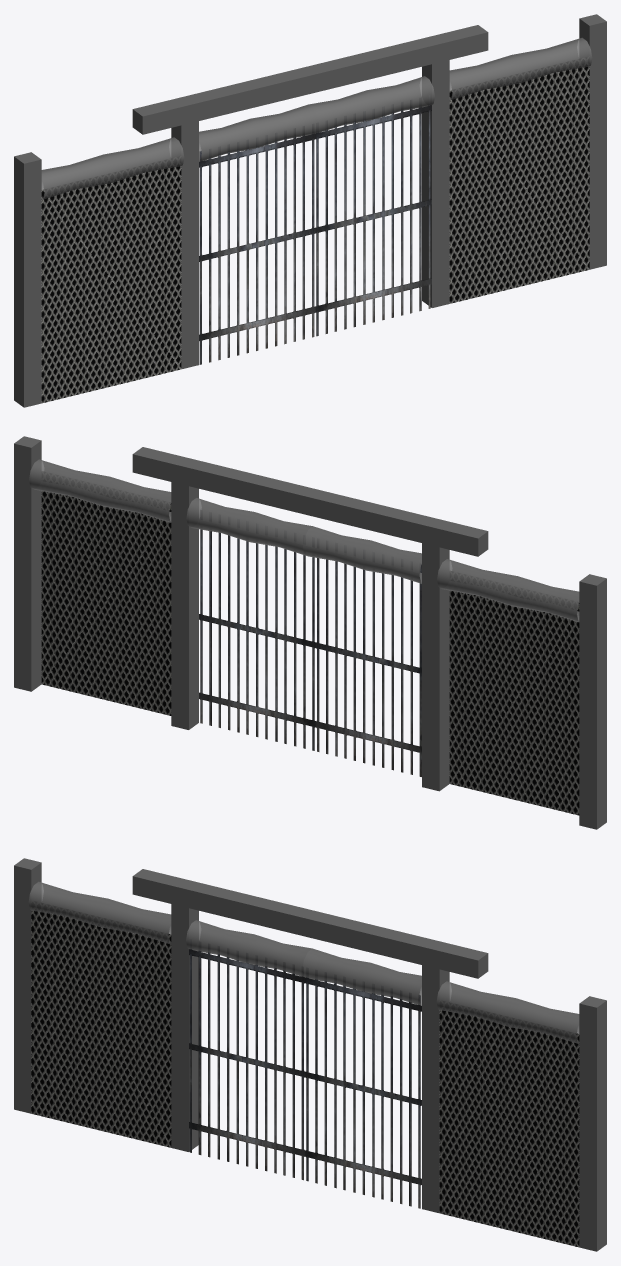
File: Fence_QuarantineGate_Mod_01.fbx
The picture shows the model from 3 angles, top to bottom: view 1: azimuth 30°, elevation 25°; view 2: azimuth 150°, elevation 25°; view 3: azimuth 330°, elevation 25°; orthographic projection.
Visible parts, largest first — view 1: ChainLink1, Supports1, BarbedWire, GateRight, GateLeft; view 2: ChainLink1, Supports1, BarbedWire, GateLeft, GateRight; view 3: ChainLink1, Supports1, BarbedWire, GateRight, GateLeft.
Boxes of the visible parts, left/top/right/bottom form: ChainLink1: left=41, top=66, right=589, bottom=403; Supports1: left=14, top=14, right=606, bottom=407; BarbedWire: left=41, top=37, right=592, bottom=199; GateRight: left=199, top=133, right=315, bottom=364; GateLeft: left=315, top=105, right=431, bottom=336; ChainLink1: left=41, top=491, right=579, bottom=815; Supports1: left=14, top=436, right=606, bottom=829; BarbedWire: left=29, top=459, right=579, bottom=622; GateLeft: left=199, top=529, right=315, bottom=750; GateRight: left=315, top=558, right=421, bottom=776; ChainLink1: left=31, top=910, right=579, bottom=1247; Supports1: left=14, top=858, right=606, bottom=1251; BarbedWire: left=28, top=881, right=579, bottom=1043; GateRight: left=189, top=949, right=305, bottom=1180; GateLeft: left=305, top=977, right=421, bottom=1208.
Size of the model in its own units: 10 by 4.3 by 0.4615.
